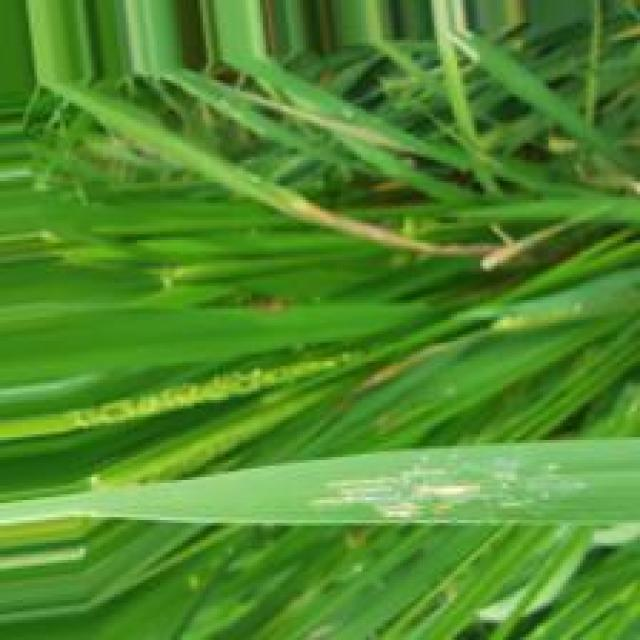Rice_Hispa: (310, 472, 484, 525)
